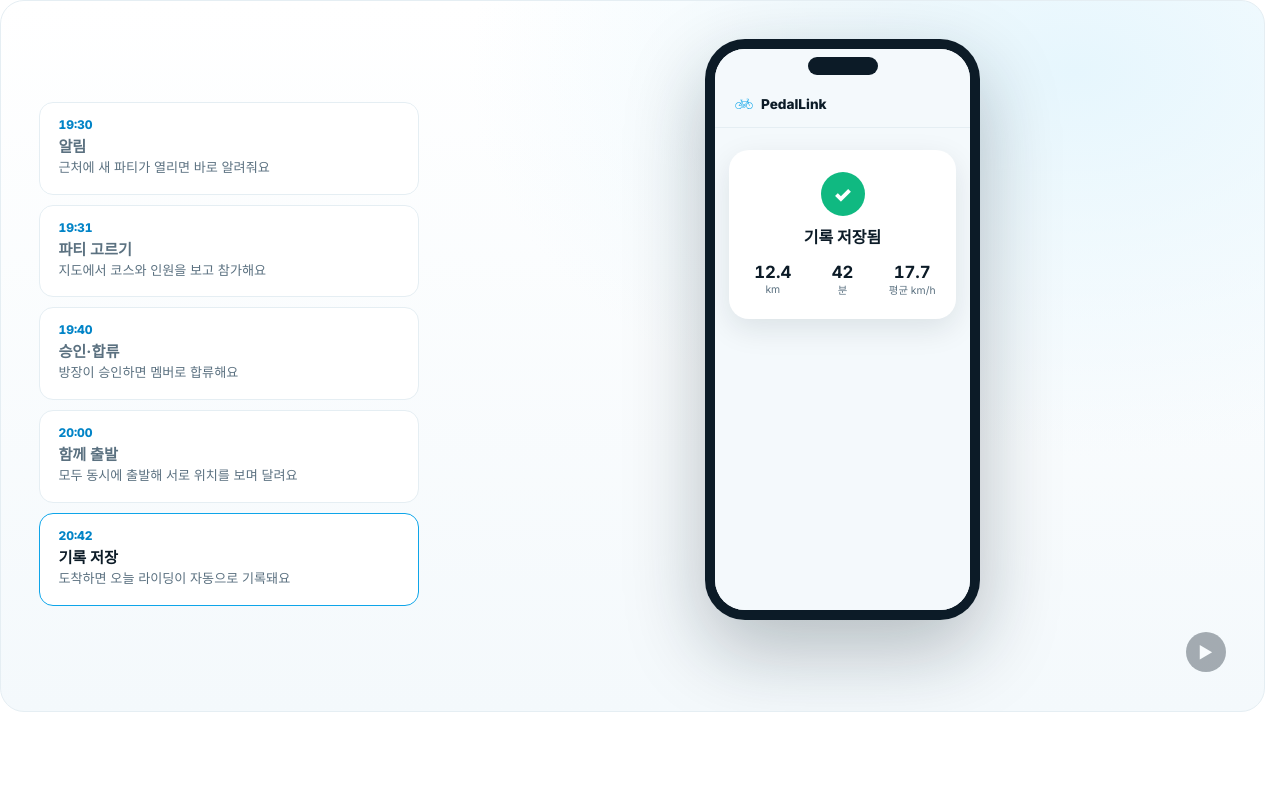
Test: 모션 줄이기면 마지막 단계 정지 화면, 자동 진행 없음, 재생 버튼 비활성
Expected: the button "20:42 기록 저장 도착하면 오늘 라이딩이 자동으로 기록돼요" is shown, [39, 513, 419, 606]
Expected: the button named "움직임 줄이기 설정으로 자동 재생이 꺼져 있어요" is disabled, [1186, 632, 1226, 672]
What coordinates should you click on to do the following:
click the button "20:00 함께 출발 모두 동시에 출발해 서로 위치를 보며 달려요"
I would click on:
 (76, 433)
Its box is [39, 410, 419, 503].
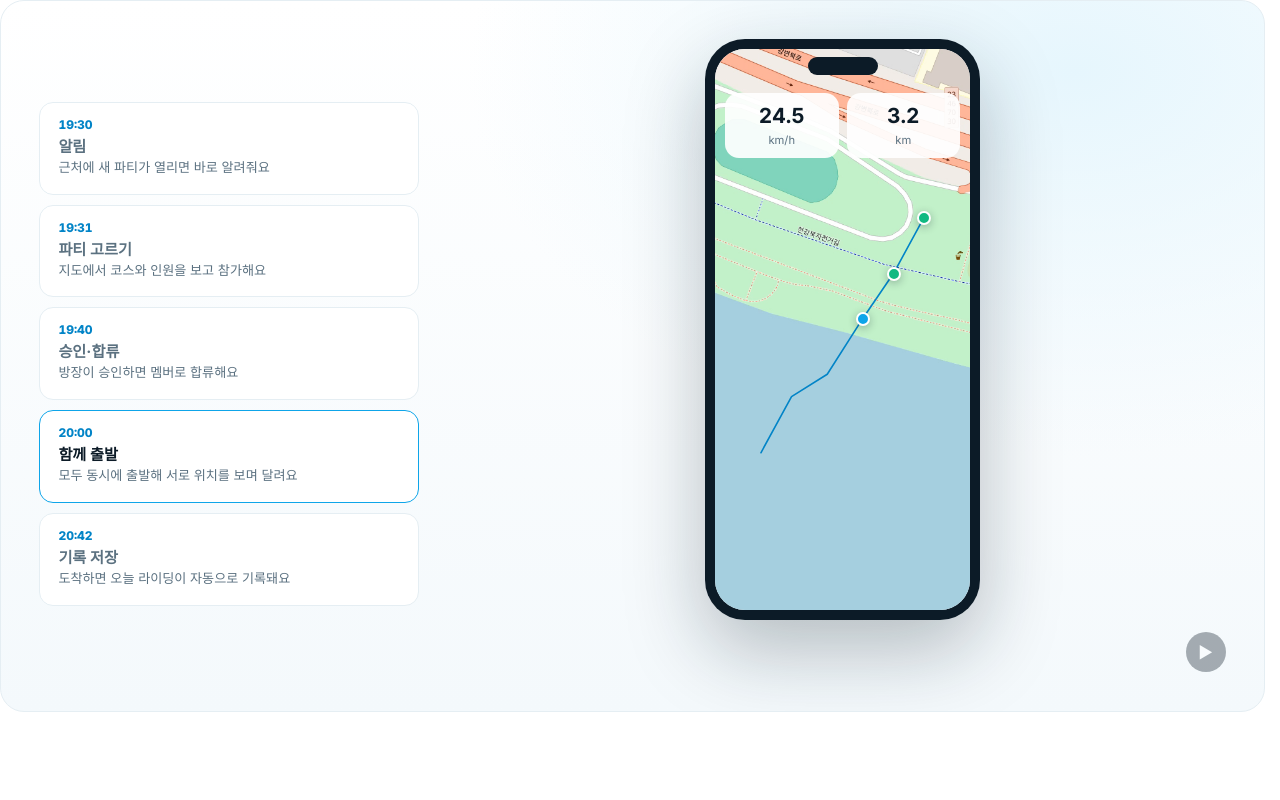
Expected: the text "24.5" is shown, [759, 103, 805, 128]
